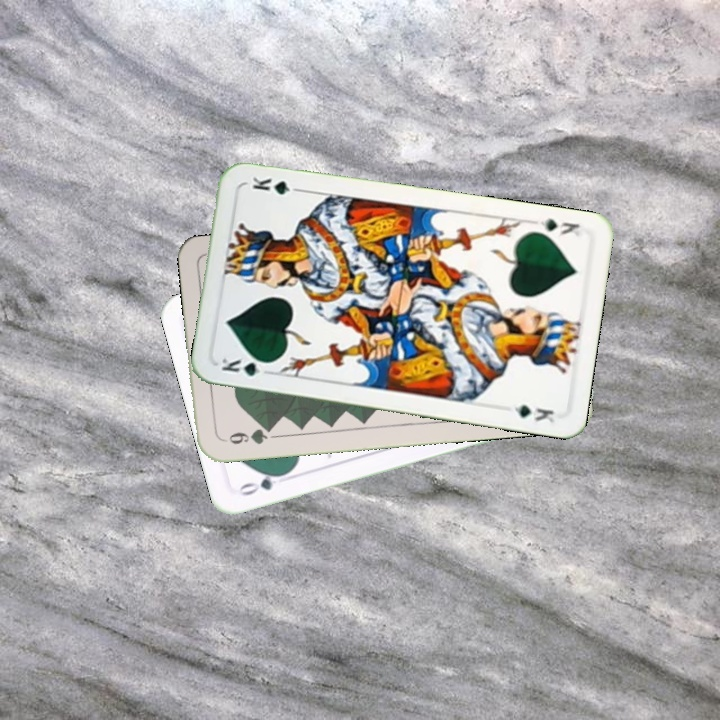G9: (219, 423, 276, 447)
GK: (217, 353, 275, 379), (529, 215, 583, 239)
GO: (234, 468, 290, 499)
